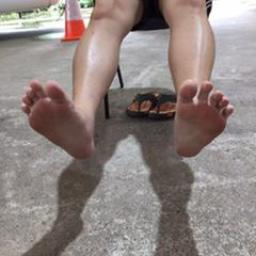Plantar View -Both Feet-: (13, 65, 239, 176)
